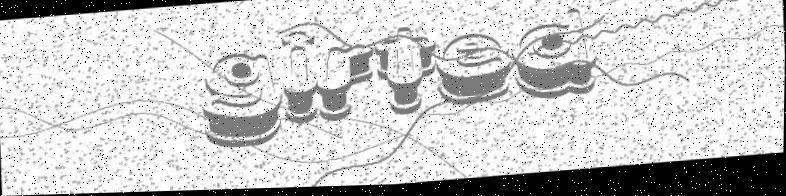d: (511, 10, 598, 108)
e: (433, 29, 513, 112)
g: (198, 47, 287, 151)
i: (279, 28, 321, 129)
r: (315, 41, 379, 128)
t: (371, 25, 440, 122)
